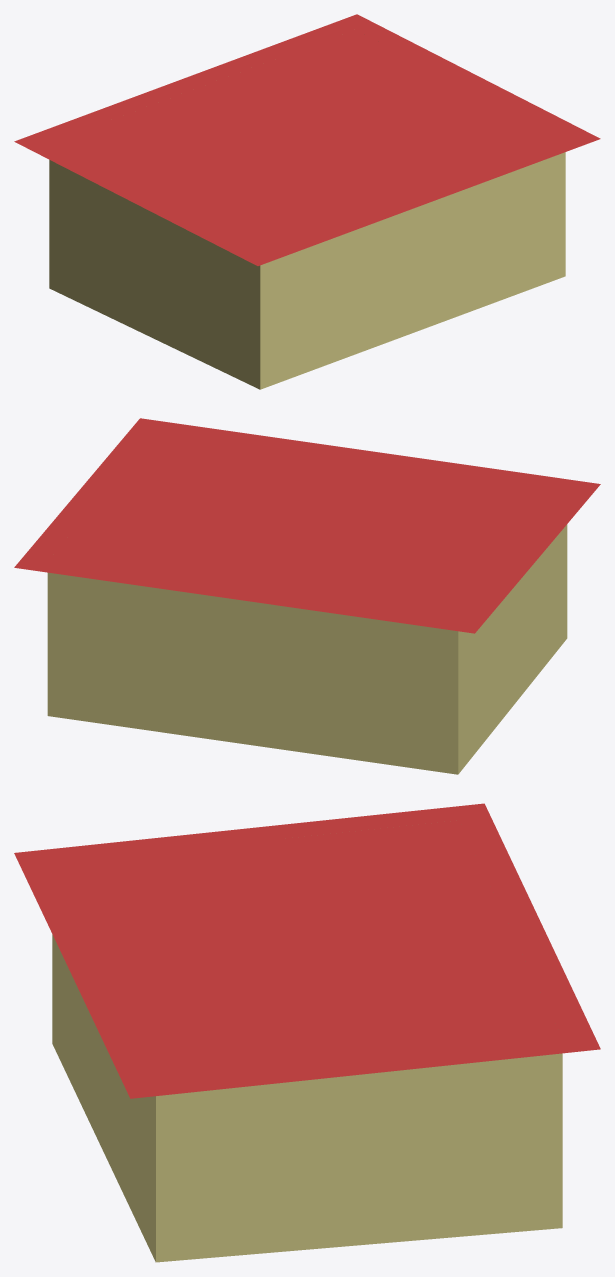
The picture shows the model from 3 angles, top to bottom: view 1: azimuth 30°, elevation 25°; view 2: azimuth 150°, elevation 25°; view 3: azimuth 270°, elevation 25°; orthographic projection. The views are drawn at different scales.
Size of the model in its own units: 20.82 by 18.08 by 6.44.
